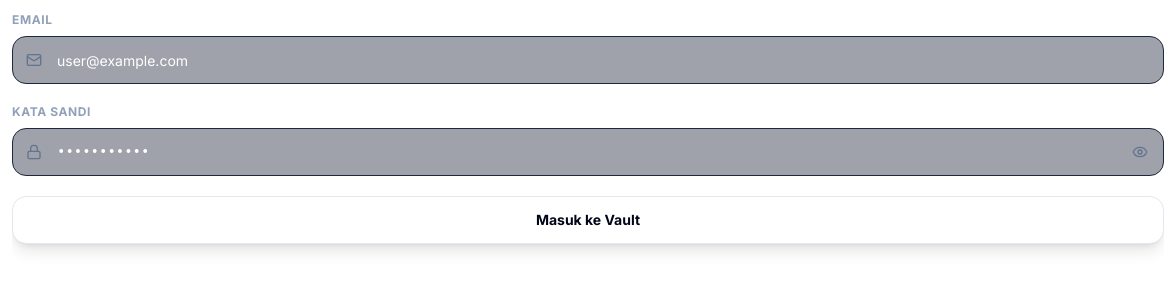
Test: LoginForm Component › shows validation error when password is less than 6 characters
Type "12345" into the password field labelled "Kata Sandi" at (588, 152), box x1=12 y1=128 x2=1164 y2=176
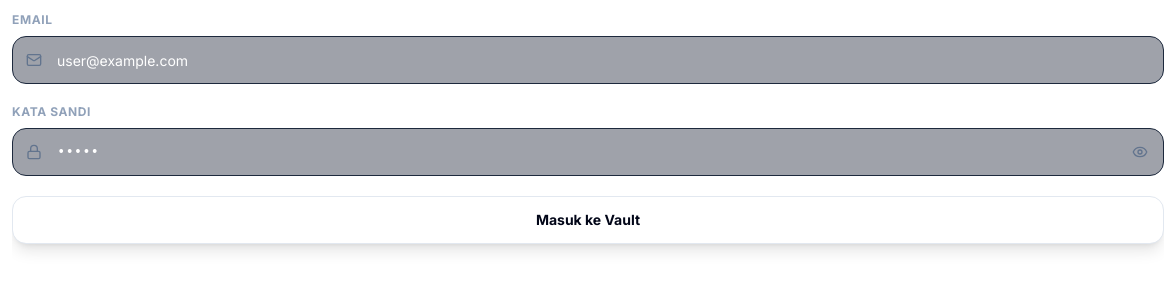
Click the button "Masuk ke Vault" at (588, 220), box x1=12 y1=196 x2=1164 y2=244
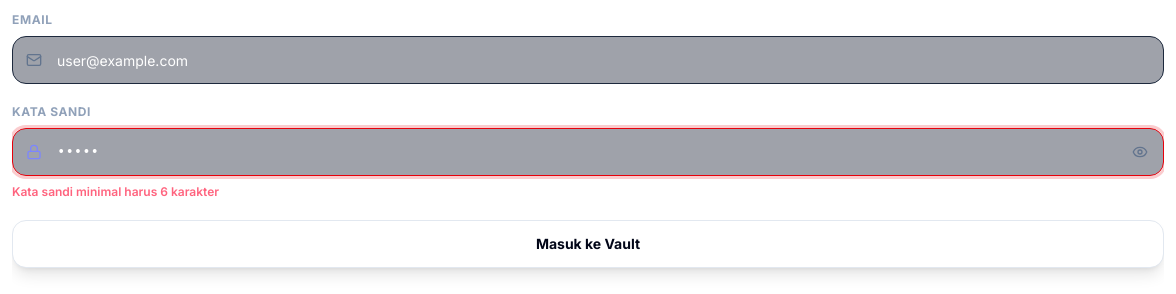
Check: the text "Kata sandi minimal harus 6 karakter" is shown, box x1=12 y1=184 x2=219 y2=199
